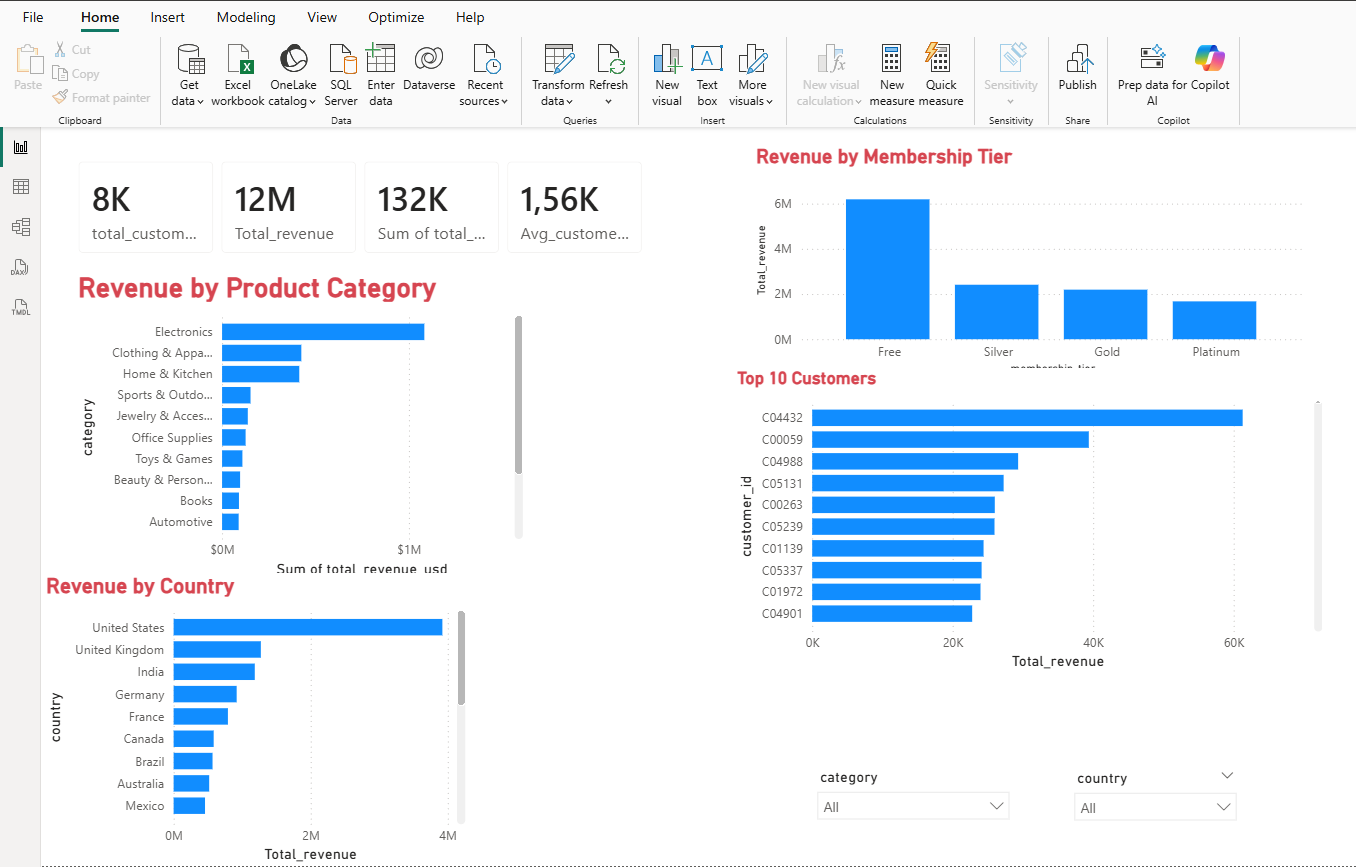

This screenshot's page, from the dashboard's own definition file:
{"tool":"powerbi","page":{"name":"Page 1","canvas":[1280,720],"ordinal":0},"visuals":[{"type":"cardVisual","fields":{"Data":["customers.total_customers","customers.Total_revenue","Sum(customers.total_orders)","customers.Avg_customer_spend"]},"box":[19.5,16.3,582.5,123.7],"z":0},{"type":"barChart","title":"Revenue by Product Category","fields":{"Category":["product_summary.category"],"Y":["Sum(product_summary.total_revenue_usd)"]},"box":[31.5,139.9,442.6,302.6],"z":1000},{"type":"barChart","title":"Revenue by Country","fields":{"Category":["customers.country"],"Y":["customers.Total_revenue"]},"box":[0,433.9,417.6,286.4],"z":2000},{"type":"clusteredColumnChart","title":"Revenue by Membership Tier","fields":{"Category":["customers.membership_tier"],"Y":["customers.Total_revenue"]},"box":[691,16.3,542.4,228.9],"z":3000},{"type":"barChart","title":"Top 10 Customers","fields":{"Category":["customers.customer_id"],"Y":["customers.Total_revenue"]},"box":[672.5,234.3,579.3,298.3],"z":4000},{"type":"slicer","fields":{"Values":["customers.country"]},"box":[994.7,619.4,177.9,65.1],"z":5001},{"type":"slicer","fields":{"Values":["product_summary.category"]},"box":[745.2,618.3,207.2,66.2],"z":5002}]}

Visuals, with their boxes on the page's 1280x720 design canvas (x1, y1, x2, y2). These are canvas units, not pixel positions in the 1356x867 screenshot, which may show the page scaled, cropped or inside an application window:
cardVisual - customers.total_customers x customers.Total_revenue: select_region(20, 16, 602, 140)
"Revenue by Product Category" barChart: select_region(32, 140, 474, 442)
"Revenue by Country" barChart: select_region(0, 434, 418, 720)
"Revenue by Membership Tier" clusteredColumnChart: select_region(691, 16, 1233, 245)
"Top 10 Customers" barChart: select_region(672, 234, 1252, 533)
slicer - customers.country: select_region(995, 619, 1173, 684)
slicer - product_summary.category: select_region(745, 618, 952, 684)
